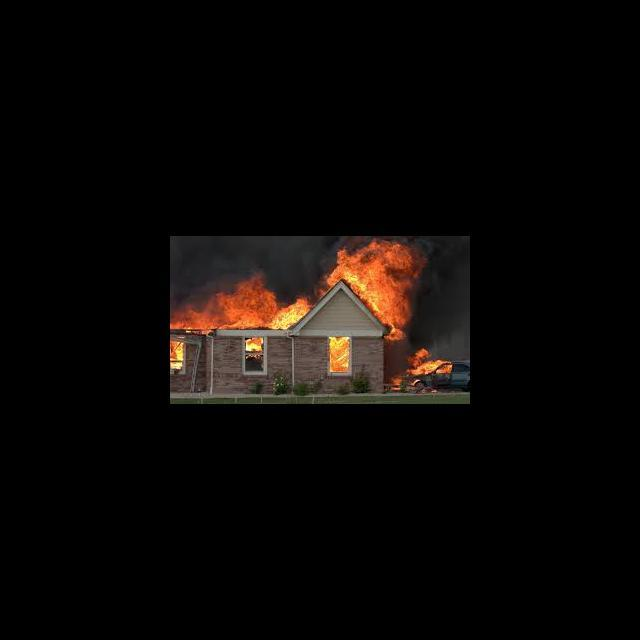Fire: (326, 242, 429, 341), (170, 270, 313, 329), (407, 350, 453, 377), (330, 337, 350, 372), (171, 341, 184, 371), (244, 338, 264, 352), (386, 378, 401, 392)
Smoke: (226, 236, 324, 267), (172, 237, 225, 290)
